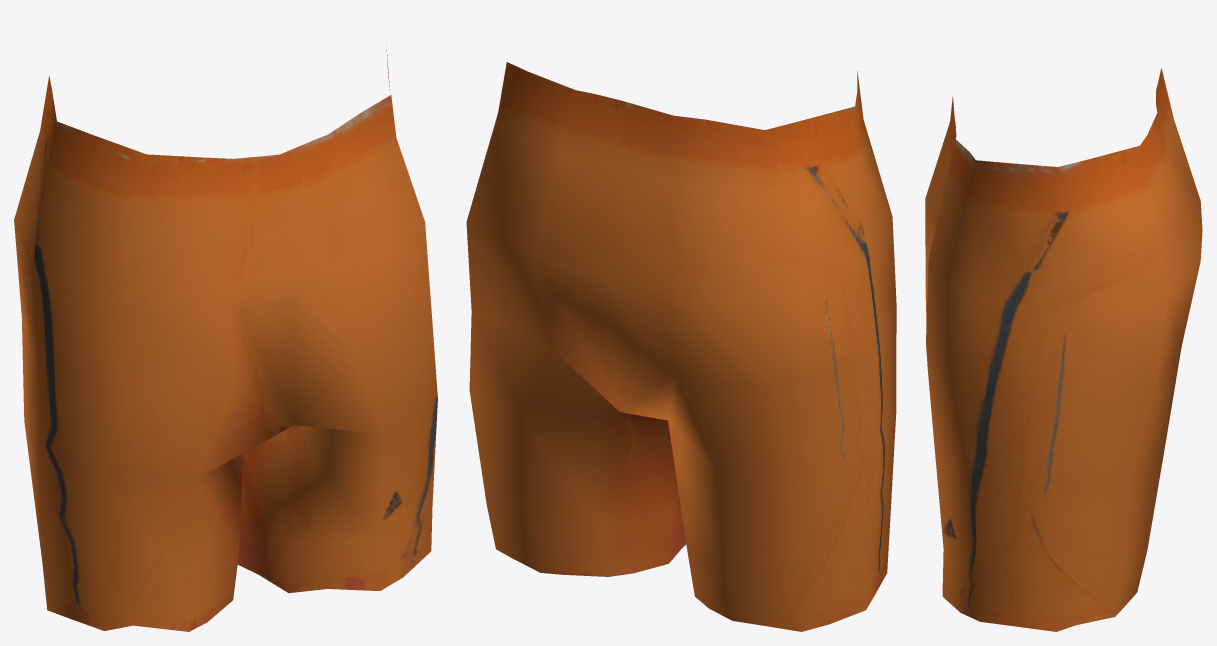
Rendered from 015-shell.glb.
The picture shows the model from 3 angles, left to right: view 1: azimuth 30°, elevation 25°; view 2: azimuth 150°, elevation 25°; view 3: azimuth 270°, elevation 25°; orthographic projection. The views are drawn at different scales.
Parts seen in each view (by area): view 1: geometry_0; view 2: geometry_0; view 3: geometry_0.
Boxes of the visible parts, bbox=[...] form: geometry_0: bbox=[14, 45, 437, 631]; geometry_0: bbox=[466, 62, 896, 631]; geometry_0: bbox=[925, 68, 1202, 631].
Bounding box in the file's own units: 0.3589 × 0.4454 × 0.2391.
1 material, 1 textured.
